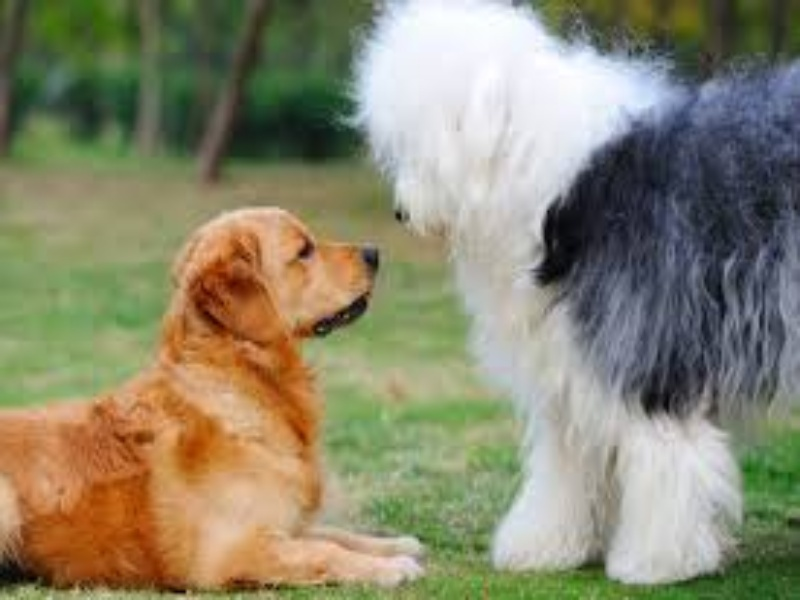dog: (4, 206, 423, 583)
